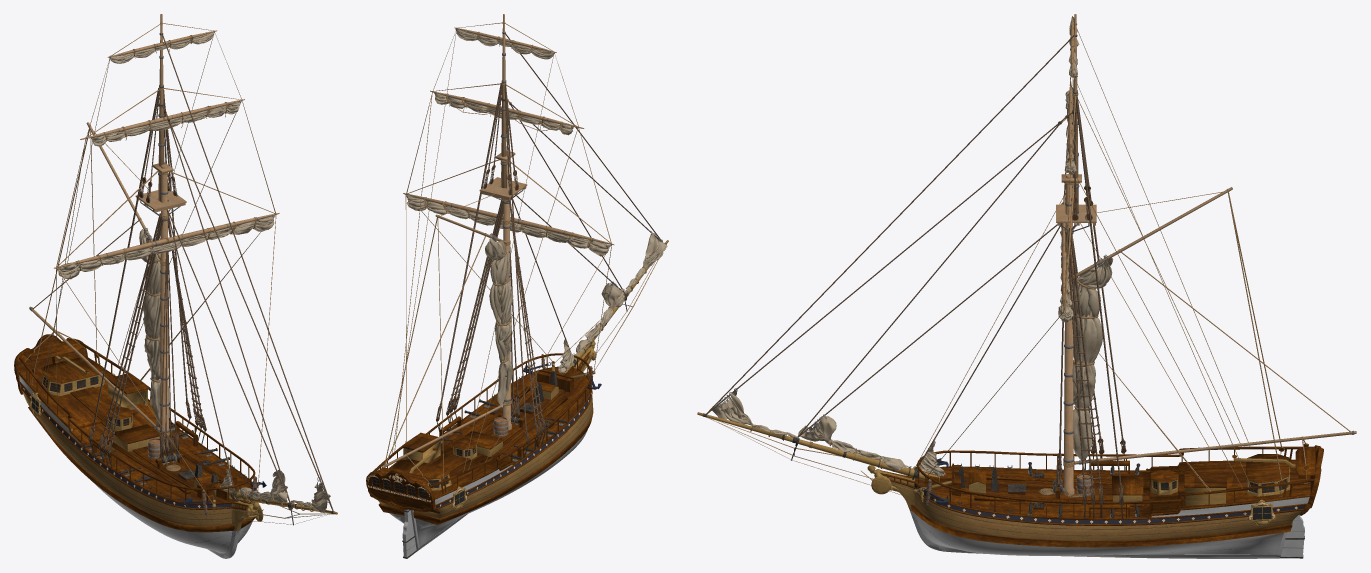
File: amadis.glb
3 renders of one model, left to right at view 1: azimuth 30°, elevation 25°; view 2: azimuth 150°, elevation 25°; view 3: azimuth 270°, elevation 25°, orthographic. The views are drawn at different scales.
Parts seen in each view (by area): view 1: Object_32, Object_13, Object_12, Object_15, Object_26, Object_11, Object_17, Object_5, Object_4, Object_22, Object_21, Object_14 (+1 smaller); view 2: Object_32, Object_12, Object_13, Object_26, Object_15, Object_11, Object_5, Object_17, Object_14, Object_22, Object_4, Object_21 (+1 smaller); view 3: Object_32, Object_13, Object_12, Object_5, Object_26, Object_11, Object_15, Object_17, Object_4, Object_22.
Boxes of the visible parts, <box> form: Object_32: <box>14,334,255,532</box>; Object_13: <box>88,33,333,511</box>; Object_12: <box>56,32,330,513</box>; Object_15: <box>29,14,279,463</box>; Object_26: <box>22,23,332,524</box>; Object_11: <box>22,391,253,526</box>; Object_17: <box>30,355,337,531</box>; Object_5: <box>19,375,252,558</box>; Object_4: <box>20,384,246,533</box>; Object_22: <box>141,414,334,525</box>; Object_21: <box>29,32,329,502</box>; Object_14: <box>32,376,131,426</box>; Object_32: <box>366,350,593,525</box>; Object_12: <box>406,28,667,407</box>; Object_13: <box>436,33,662,443</box>; Object_26: <box>378,22,658,491</box>; Object_15: <box>381,14,614,468</box>; Object_11: <box>378,397,592,518</box>; Object_5: <box>389,429,587,557</box>; Object_17: <box>393,240,668,509</box>; Object_14: <box>372,447,475,505</box>; Object_22: <box>402,242,666,558</box>; Object_4: <box>436,392,591,507</box>; Object_21: <box>382,28,662,468</box>; Object_32: <box>880,445,1323,547</box>; Object_13: <box>705,35,1125,504</box>; Object_12: <box>712,17,1113,477</box>; Object_5: <box>910,497,1309,558</box>; Object_26: <box>706,17,1350,497</box>; Object_11: <box>914,492,1302,540</box>; Object_15: <box>1056,14,1356,495</box>; Object_17: <box>697,412,1295,525</box>; Object_4: <box>914,484,1305,523</box>; Object_22: <box>703,413,1304,558</box>.
Size of the model in its own units: 1248 by 2671 by 2936.
Materials: 21 (20 with a texture image).
